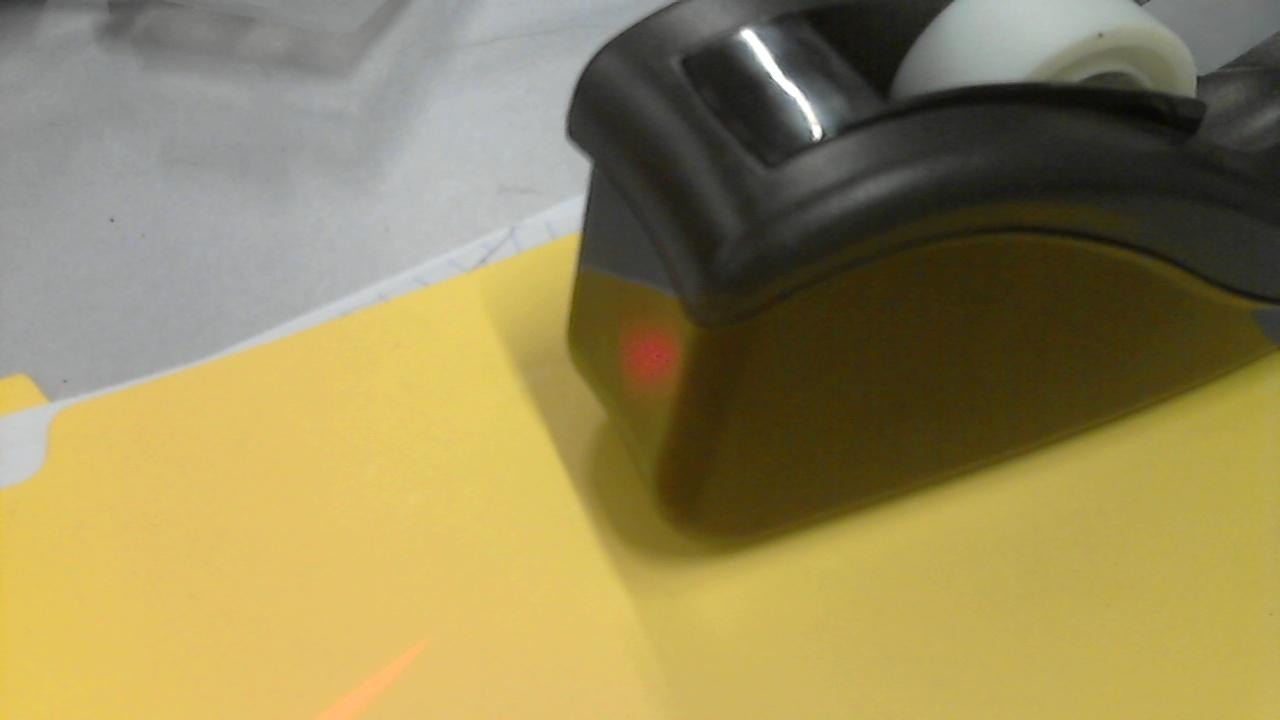Object desktop tape dispenser - Material plastic - Pdfname 8pMd29OsIRjD: (599, 305, 691, 394)
